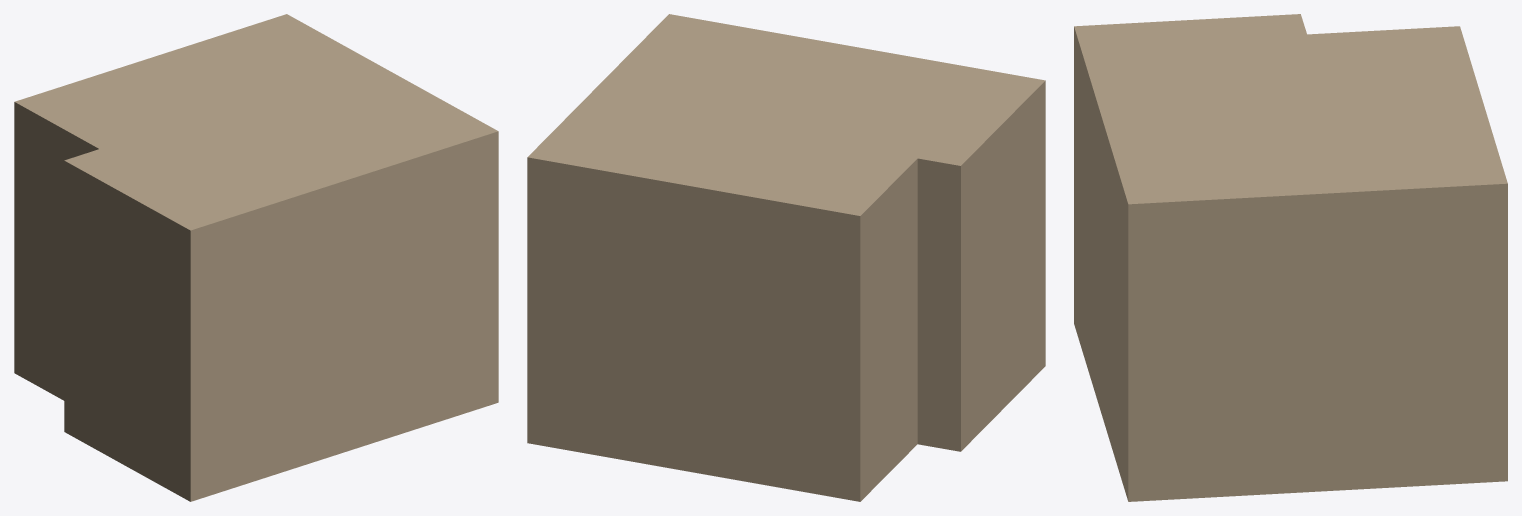
The model's file is bld_99867736.dae.
The picture shows the model from 3 angles, left to right: view 1: azimuth 30°, elevation 25°; view 2: azimuth 150°, elevation 25°; view 3: azimuth 270°, elevation 25°; orthographic projection. The views are drawn at different scales.
Parts seen in each view (by area): view 1: bld_99867736; view 2: bld_99867736; view 3: bld_99867736.
Boxes of the visible parts, bbox=[...] form: bld_99867736: bbox=[14, 14, 498, 501]; bld_99867736: bbox=[527, 14, 1045, 501]; bld_99867736: bbox=[1074, 14, 1507, 501].
Bounding box in the file's own units: 10.97 × 10.57 × 8.
